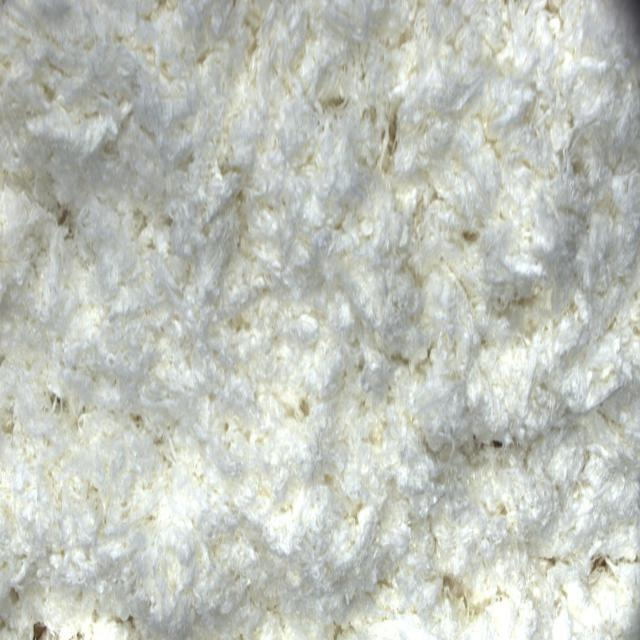dust: (590, 552, 609, 576)
